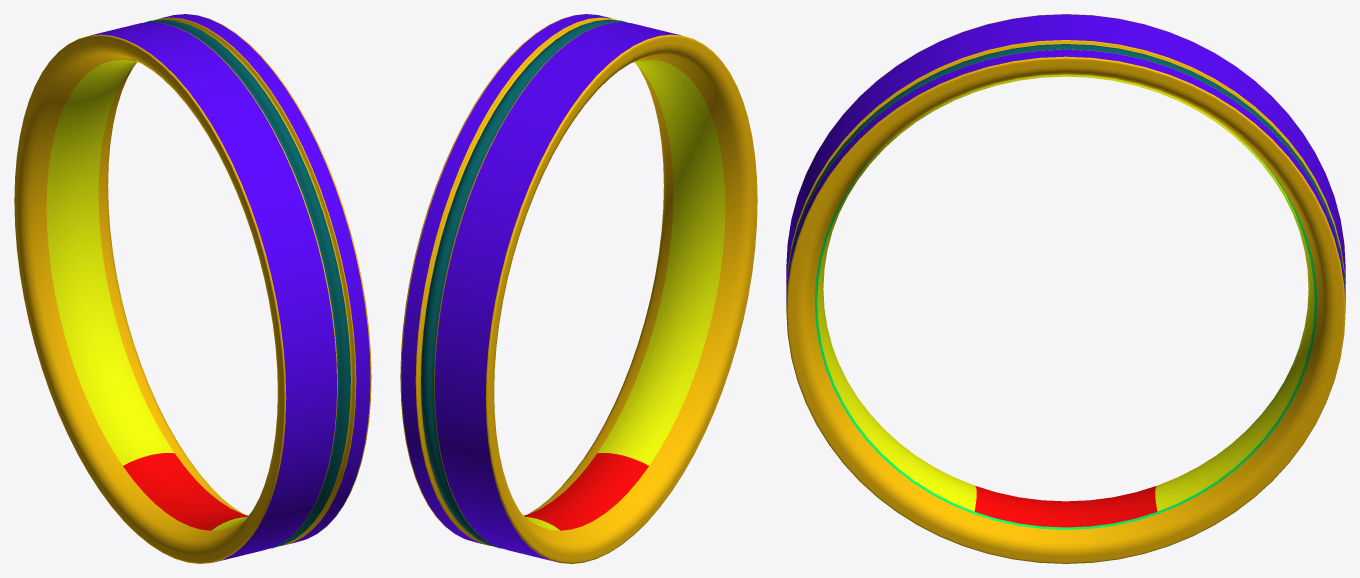
3 views of the same model, side by side, from view 1: azimuth 30°, elevation 25°; view 2: azimuth 150°, elevation 25°; view 3: azimuth 270°, elevation 25° (orthographic). The views are drawn at different scales.
Parts seen in each view (by area): view 1: IN1173; view 2: IN1173; view 3: IN1173.
Part boxes in pixels (box(x1,y1,x2,y2)): IN1173: box(14, 14, 371, 563); IN1173: box(400, 14, 757, 563); IN1173: box(786, 14, 1345, 563).
Size of the model in its own units: 0.004 by 0.0214 by 0.0214.
